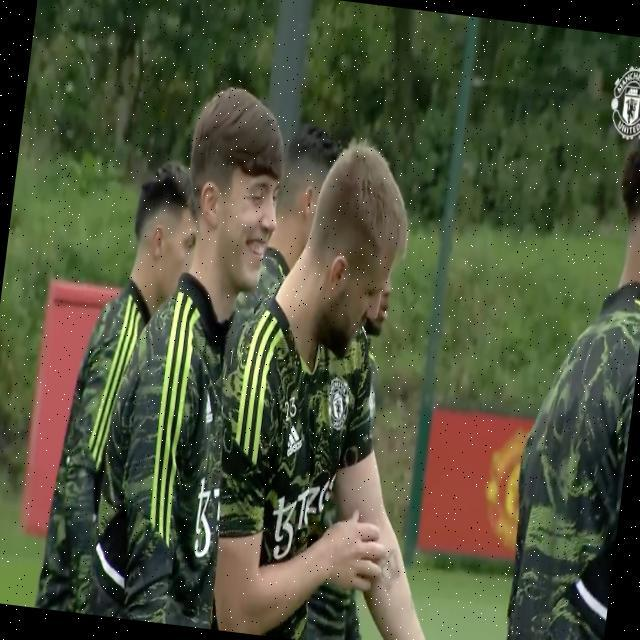Adidas: (285, 424, 303, 459)
